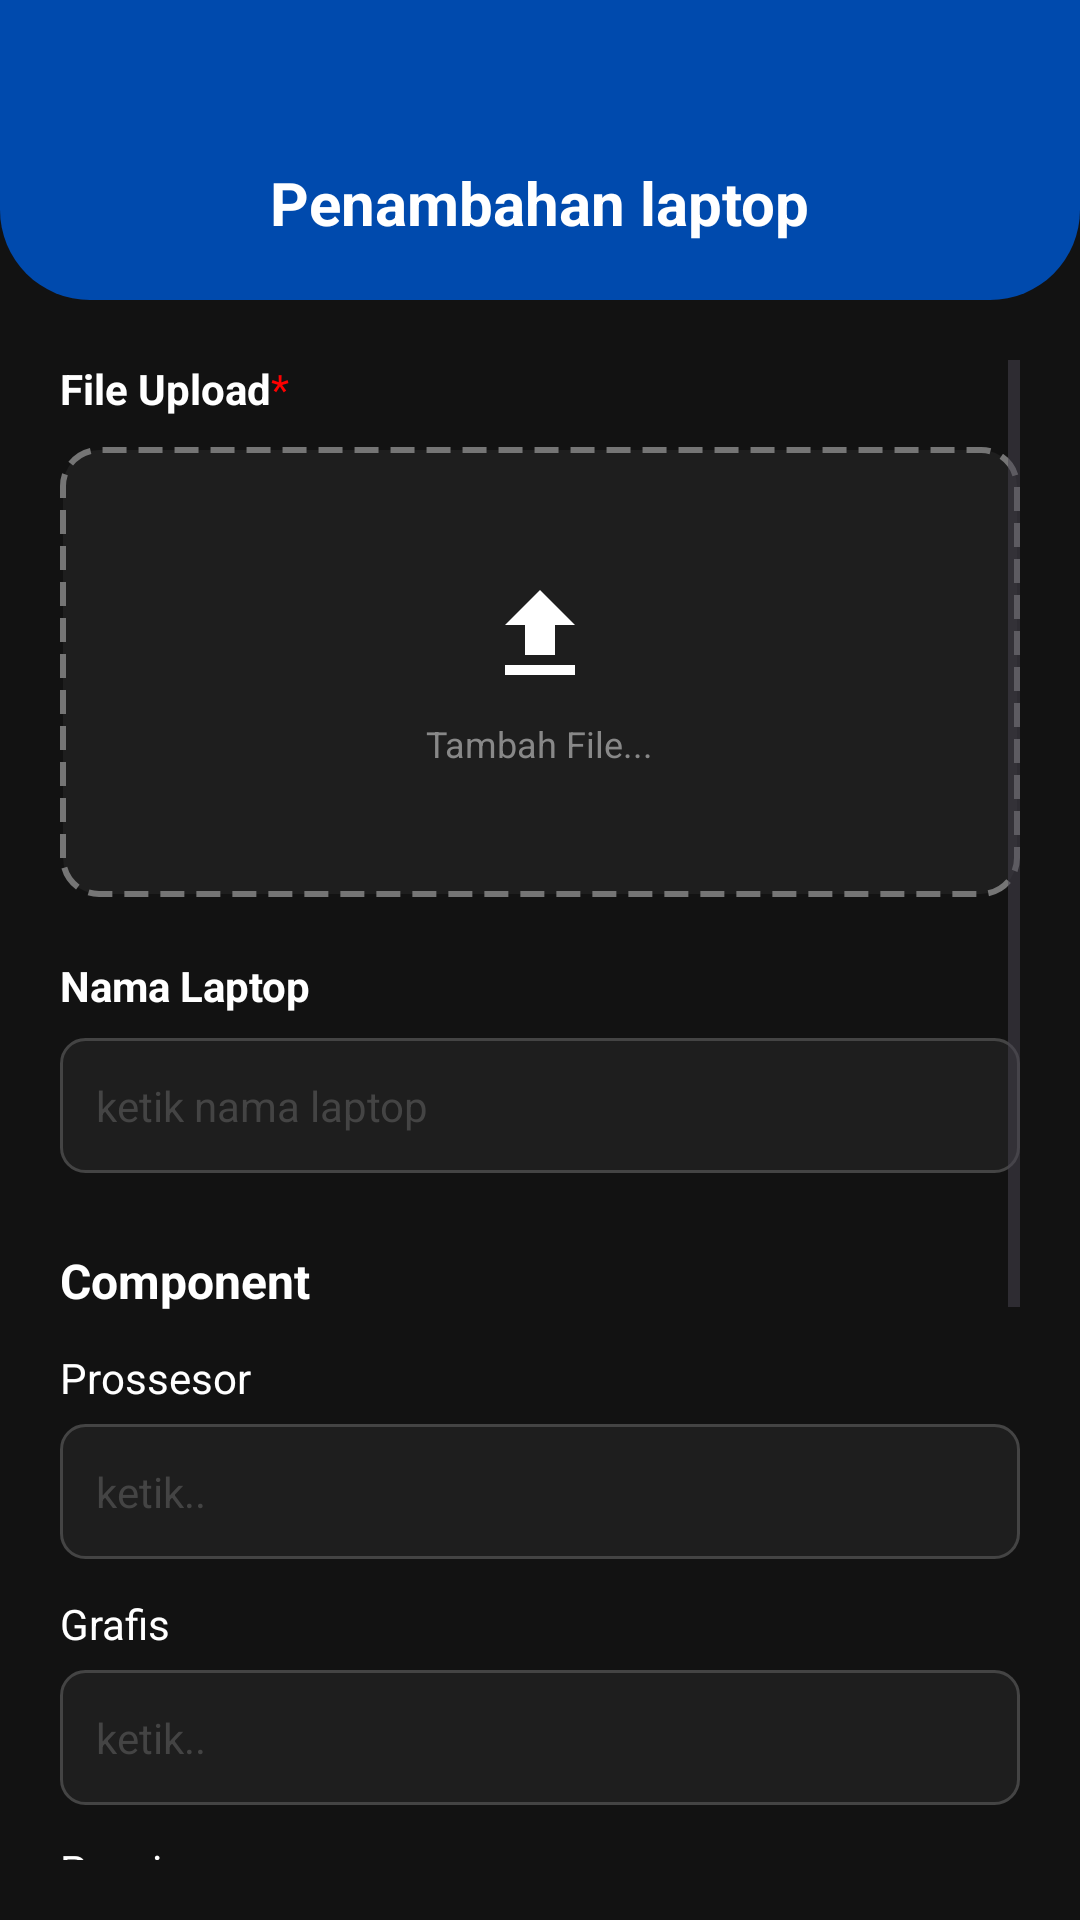

Icon bounding boxes for this 1080w x 1920h phone screenshot, format region(x1, y1, x2, y2):
upload: region(505, 590, 575, 675)
